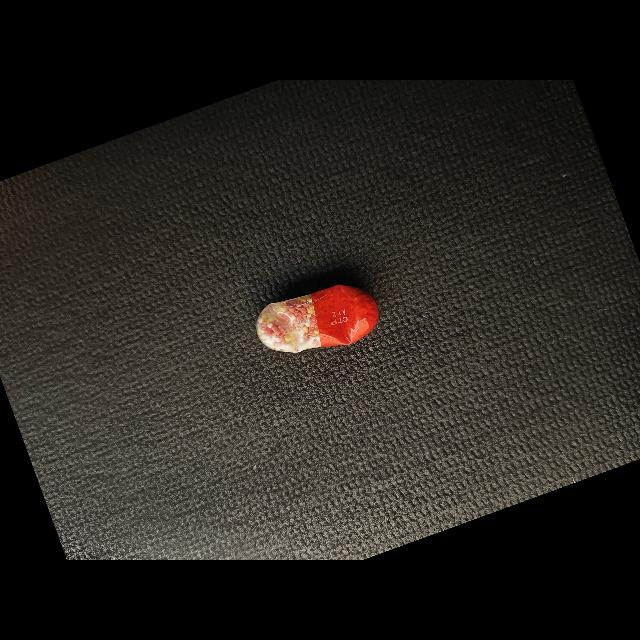Defective Capsule: (256, 284, 379, 353)
